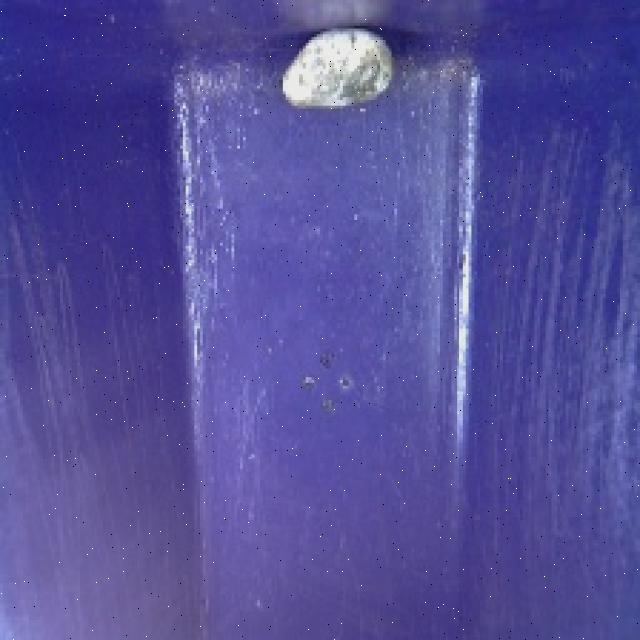cobbles: (274, 18, 404, 127)
